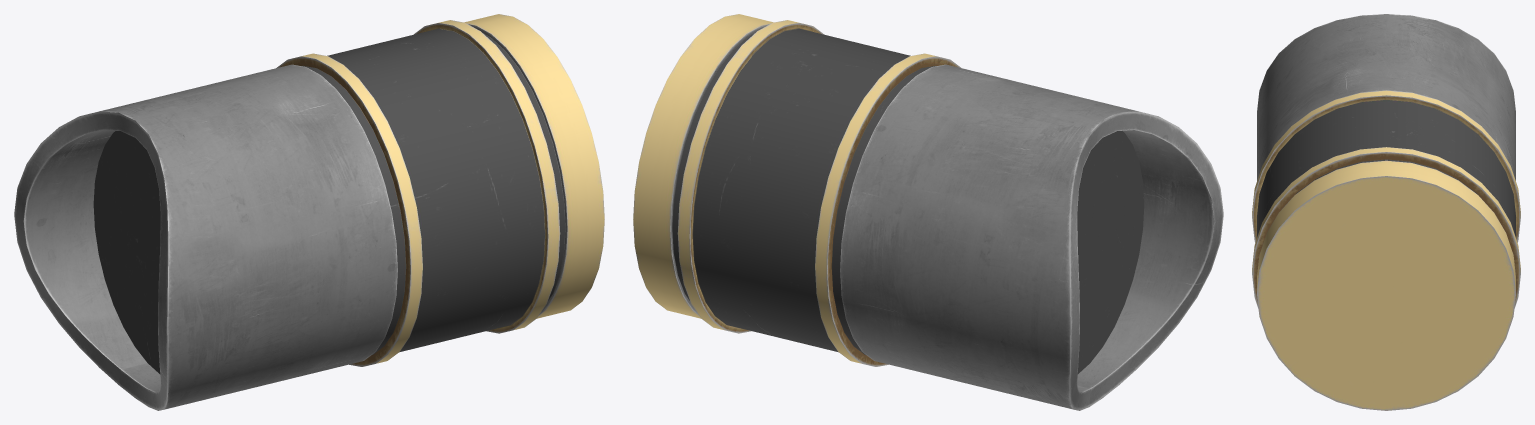
The model's file is pommel_5_c_b.glb.
3 renders of one model, left to right at view 1: azimuth 30°, elevation 25°; view 2: azimuth 150°, elevation 25°; view 3: azimuth 270°, elevation 25°, orthographic. The views are drawn at different scales.
Parts seen in each view (by area): view 1: pommel_5_c_b_lod0; view 2: pommel_5_c_b_lod0; view 3: pommel_5_c_b_lod0.
Boxes of the visible parts, x1=… form: pommel_5_c_b_lod0: x1=14, y1=14, x2=604, y2=410; pommel_5_c_b_lod0: x1=633, y1=14, x2=1223, y2=410; pommel_5_c_b_lod0: x1=1252, y1=14, x2=1520, y2=410.
Size of what is drawn, in the model's own units: 0.0488 by 0.0307 by 0.0307.
Materials: 1 (1 with a texture image).
